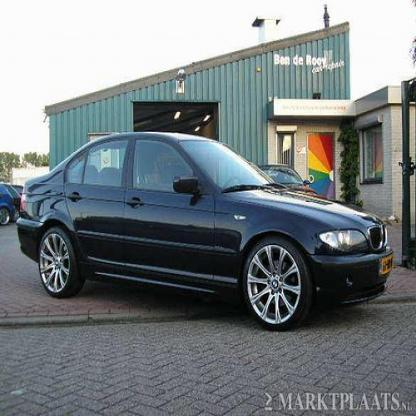car: (17, 132, 394, 331)
